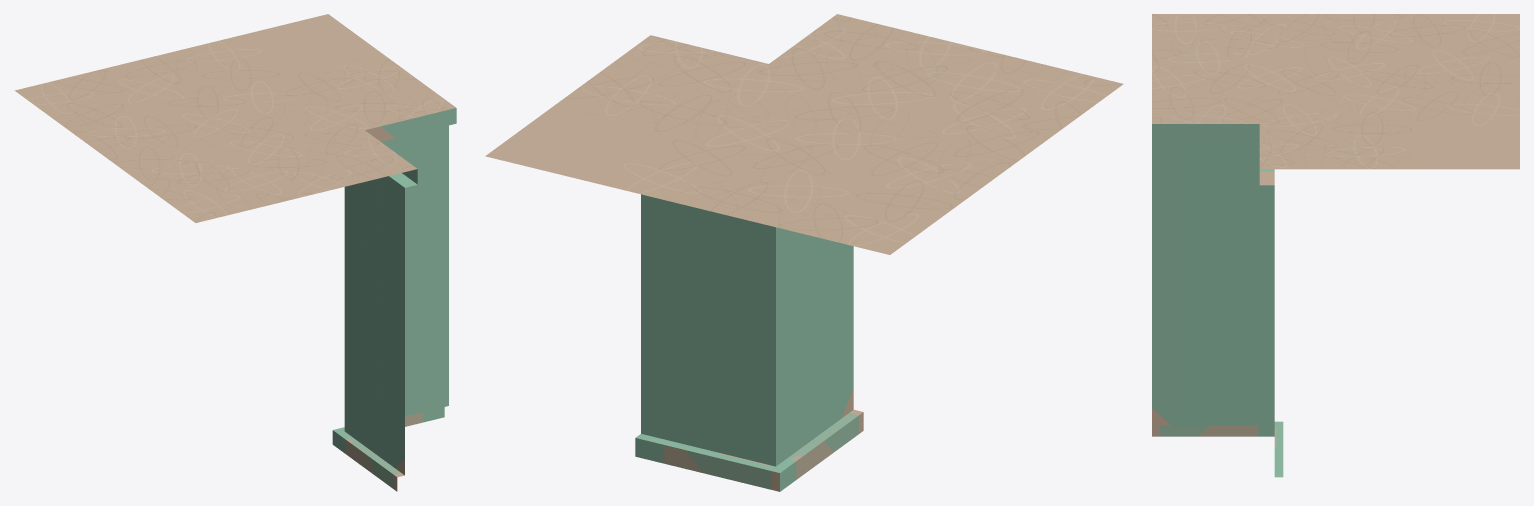
File: Corner2.fbx
3 renders of one model, left to right at view 1: azimuth 30°, elevation 25°; view 2: azimuth 150°, elevation 25°; view 3: azimuth 270°, elevation 25°, orthographic. The views are drawn at different scales.
Parts seen in each view (by area): view 1: Counter_Corner8; view 2: Counter_Corner8; view 3: Counter_Corner8.
Part boxes in pixels (left/top/right/bottom): Counter_Corner8: left=14, top=14, right=456, bottom=491; Counter_Corner8: left=485, top=14, right=1123, bottom=491; Counter_Corner8: left=1152, top=14, right=1519, bottom=477.
Size of the model in its own units: 1 by 0.9682 by 1.
